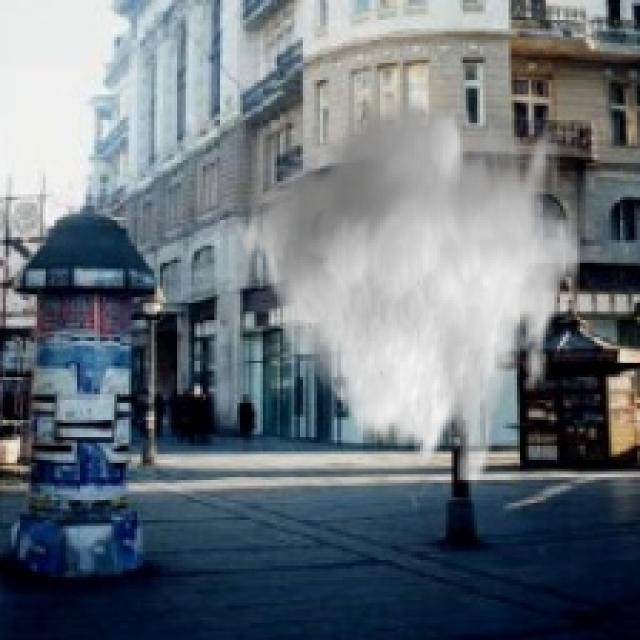Smoke: (231, 91, 580, 483)
